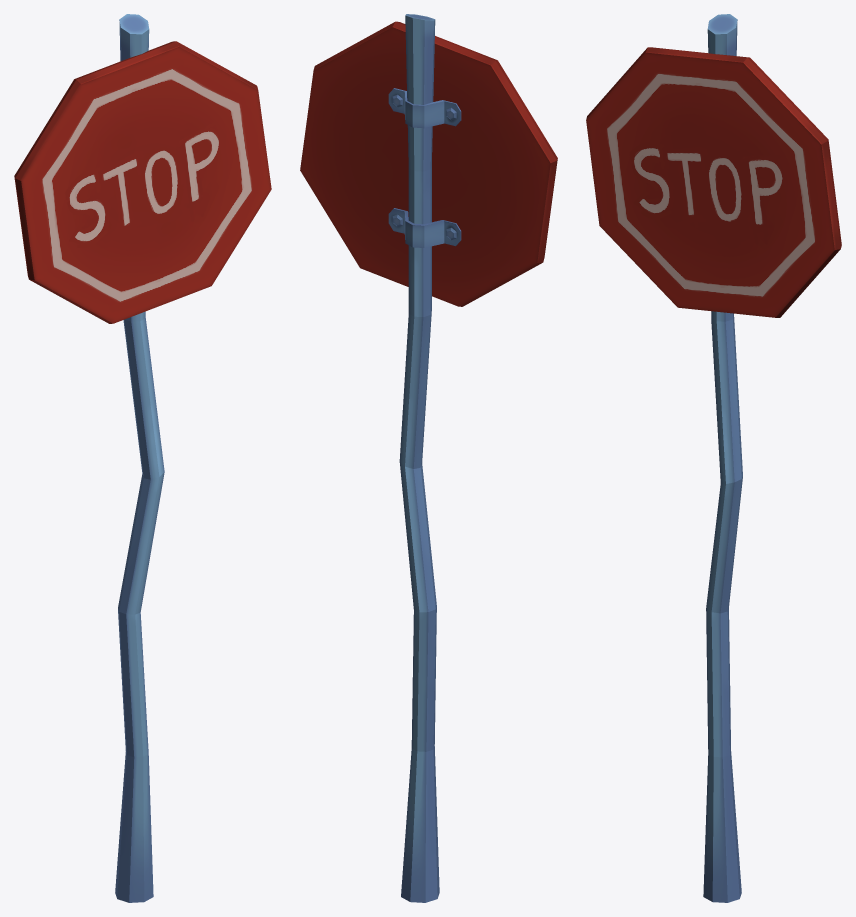
The model's file is stop sign.fbx.
3 views of the same model, side by side, from view 1: azimuth 30°, elevation 25°; view 2: azimuth 150°, elevation 25°; view 3: azimuth 330°, elevation 25° (orthographic).
Visible parts, largest first — view 1: Stop sign; view 2: Stop sign; view 3: Stop sign.
Boxes of the visible parts, left/top/right/bottom form: Stop sign: left=14, top=14, right=271, bottom=902; Stop sign: left=300, top=14, right=557, bottom=902; Stop sign: left=586, top=14, right=841, bottom=902.
Bounding box in the file's own units: 197 × 648 × 30.24.
